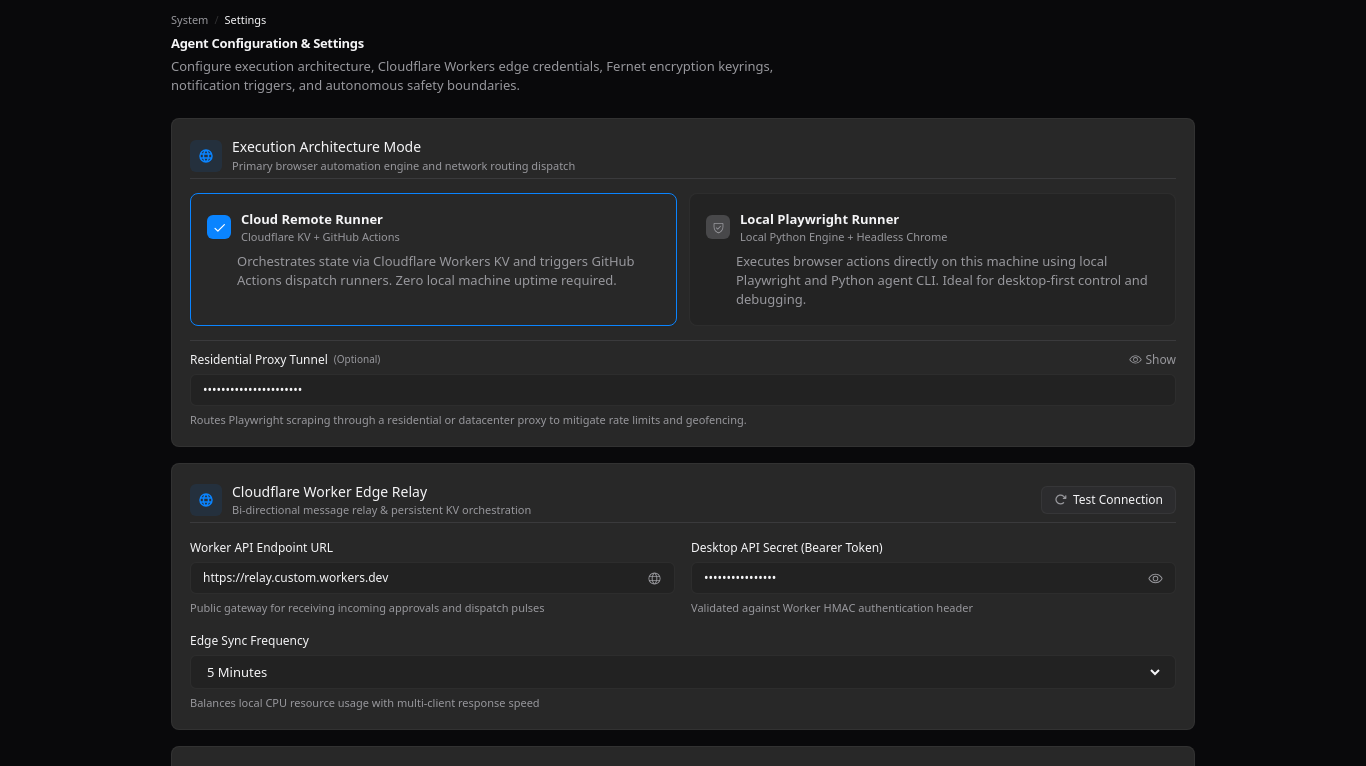
Scenario: SettingsView › saves updated settings when form is modified and saved
This screenshot has width=1366, height=766.
Replace the text in the field with placeholder "https://relay.your-subdomain.workers.dev" with "https://relay.modified.workers.dev": (421, 578) [203,569,639,587]
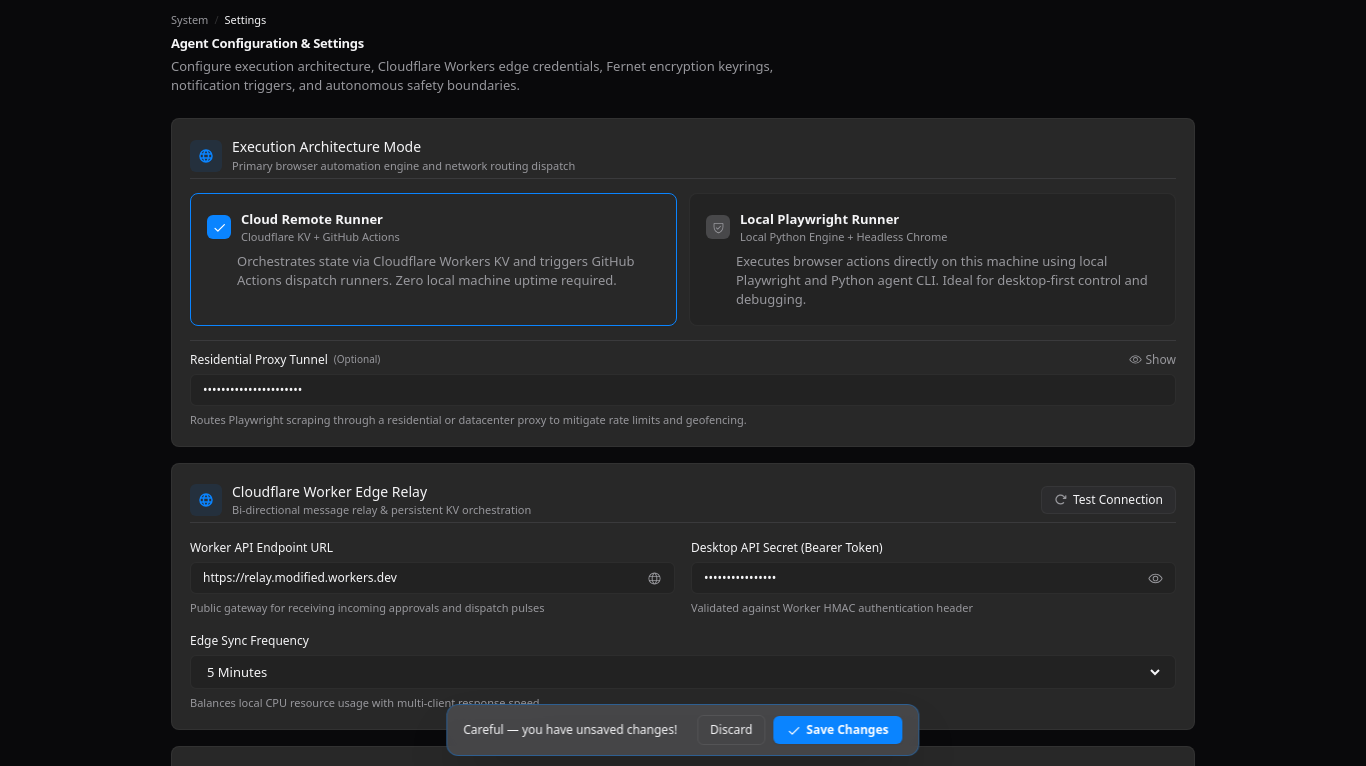
Expected: the button with test id "save-settings-btn" is shown
Expected: the button with test id "discard-settings-btn" is shown, [697,715,765,745]
Click the button with test id "save-settings-btn": (838, 730) [773,716,903,744]
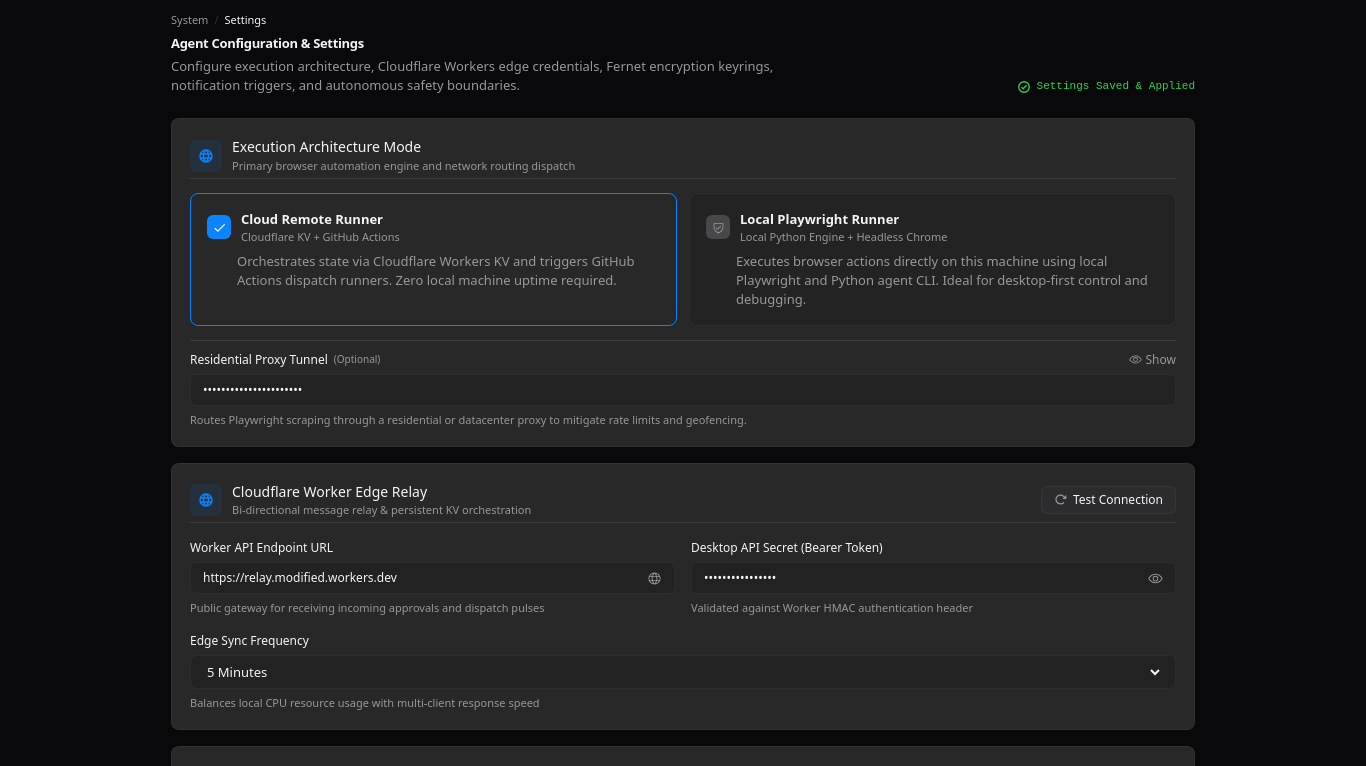
Expected: the text "Settings Saved & Applied" is shown, [1037,78,1195,94]
